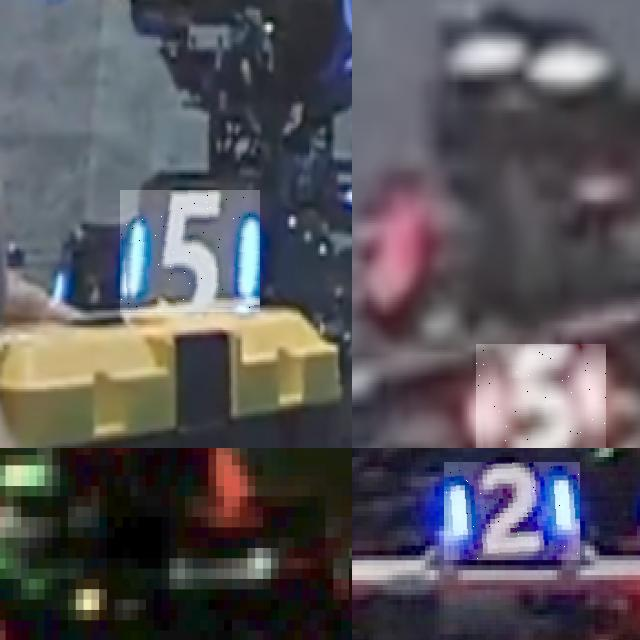B2: (444, 462, 580, 560)
B5: (120, 190, 260, 312)
R5: (476, 344, 606, 448)
